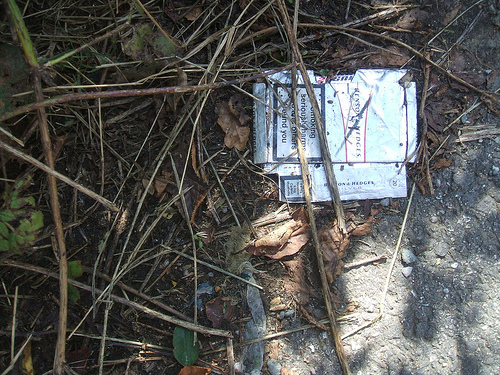litter: (252, 67, 421, 204)
